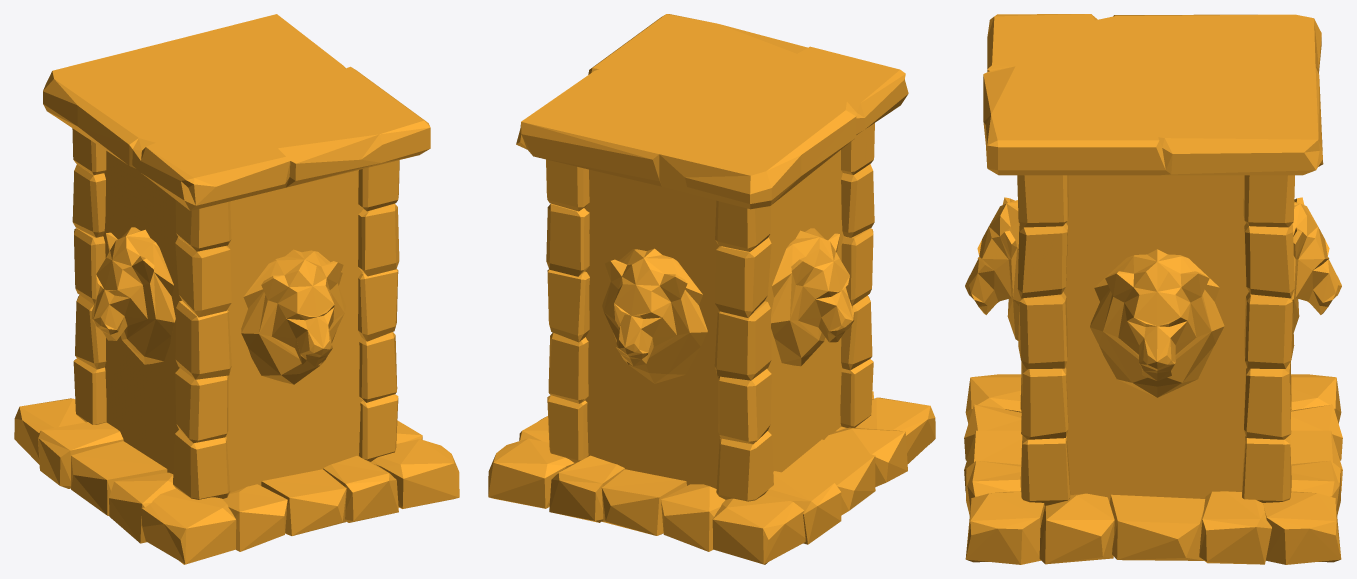
The model's file is SM_Pedestal_Rugged_A_Fantasy.fbx.
The picture shows the model from 3 angles, left to right: view 1: azimuth 30°, elevation 25°; view 2: azimuth 150°, elevation 25°; view 3: azimuth 270°, elevation 25°; orthographic projection. The views are drawn at different scales.
Parts seen in each view (by area): view 1: SM_Pedestal_Rugged_Fantasy_A; view 2: SM_Pedestal_Rugged_Fantasy_A; view 3: SM_Pedestal_Rugged_Fantasy_A.
Part boxes in pixels (<box>): SM_Pedestal_Rugged_Fantasy_A: <box>14,14,459,564</box>; SM_Pedestal_Rugged_Fantasy_A: <box>488,14,935,564</box>; SM_Pedestal_Rugged_Fantasy_A: <box>964,14,1342,564</box>.
Size of the model in its own units: 1 by 1.2 by 1.
